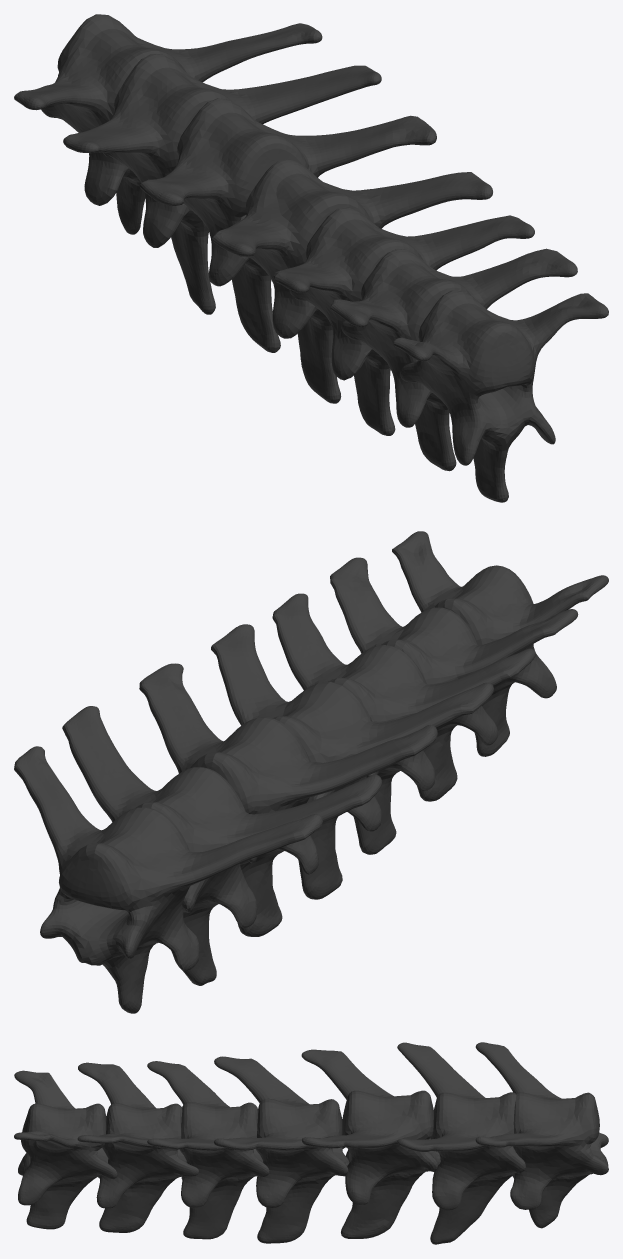
Rendered from Spine_lumbar_1.glb.
3 renders of one model, top to bottom at view 1: azimuth 30°, elevation 25°; view 2: azimuth 150°, elevation 25°; view 3: azimuth 270°, elevation 25°, orthographic. The views are drawn at different scales.
Parts seen in each view (by area): view 1: Spine_lumbar_1; view 2: Spine_lumbar_1; view 3: Spine_lumbar_1.
Part boxes in pixels (<box>): Spine_lumbar_1: <box>14,14,608,502</box>; Spine_lumbar_1: <box>14,531,608,1013</box>; Spine_lumbar_1: <box>14,1042,608,1244</box>.
Size of the model in its own units: 0.00208 by 0.00146 by 0.0051.
Materials: 1 (1 with a texture image).
